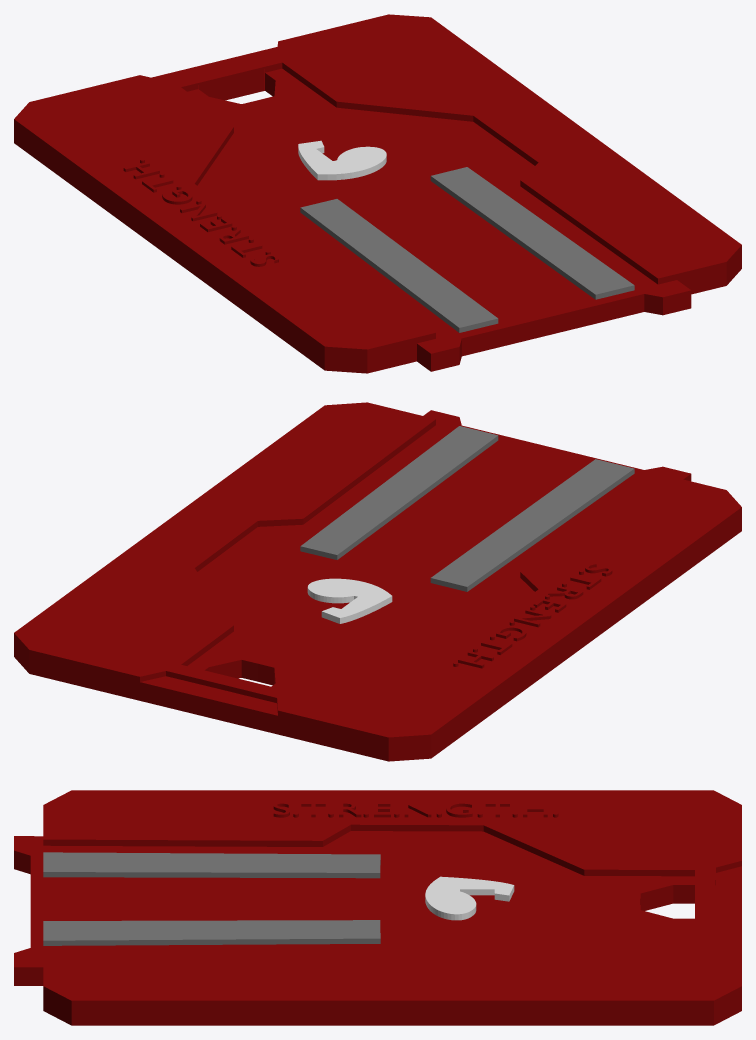
File: strength.fbx
The picture shows the model from 3 angles, top to bottom: view 1: azimuth 30°, elevation 25°; view 2: azimuth 150°, elevation 25°; view 3: azimuth 270°, elevation 25°; orthographic projection. The views are drawn at different scales.
Parts seen in each view (by area): view 1: Cube, strength, Text.002; view 2: Cube, strength, Text.002; view 3: Cube, strength, Text.002.
Part boxes in pixels (x1,y1,x2,y2): Cube: (14,14,741,373); strength: (298,140,386,180); Text.002: (123,158,278,266); Cube: (14,402,741,761); strength: (307,578,392,623); Text.002: (453,563,612,668); Cube: (14,790,741,1025); strength: (425,876,514,920); Text.002: (273,802,558,817).
Size of the model in its own units: 323 by 19.92 by 473.
